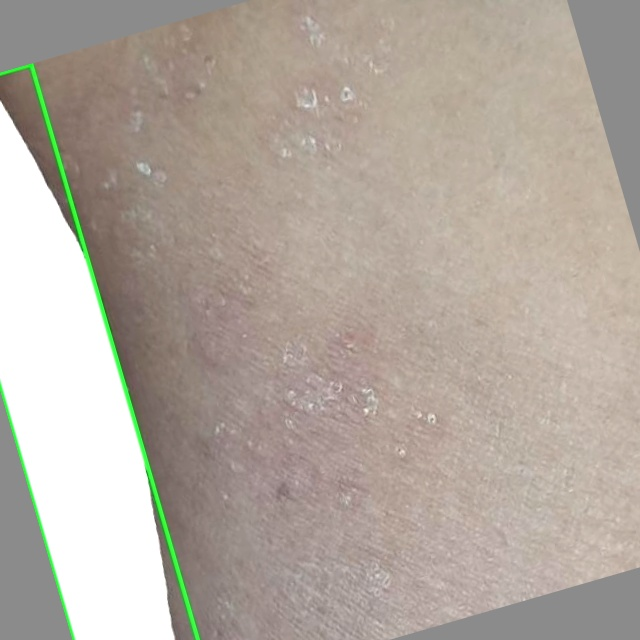Tinea Corporis: (0, 64, 197, 639)
